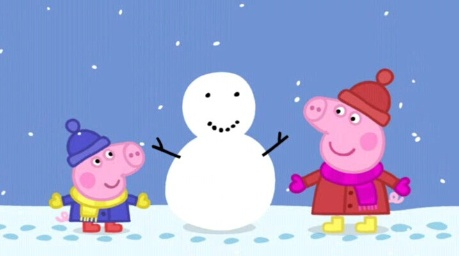Peppa: (288, 65, 414, 234)
